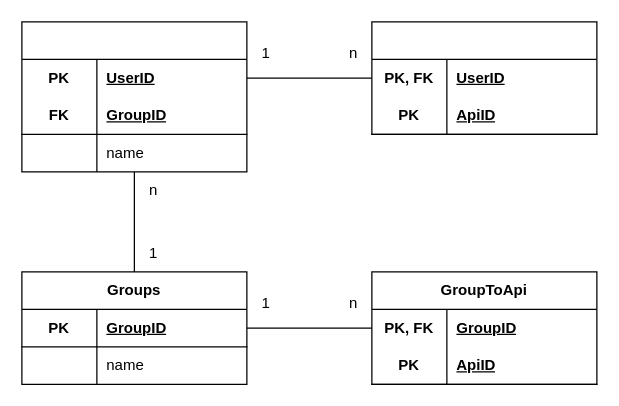
The diagram is 619 pixels wide and 406 high, and some of its shapes have lost their labels. Here are the shapes that lost their labels. From the top down, the box of each, then its label:
(21, 21, 247, 172): Users
(371, 21, 597, 134): UserToApi
